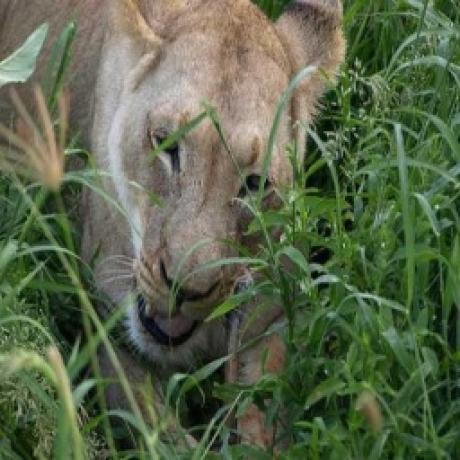Lion: (0, 0, 349, 406)
